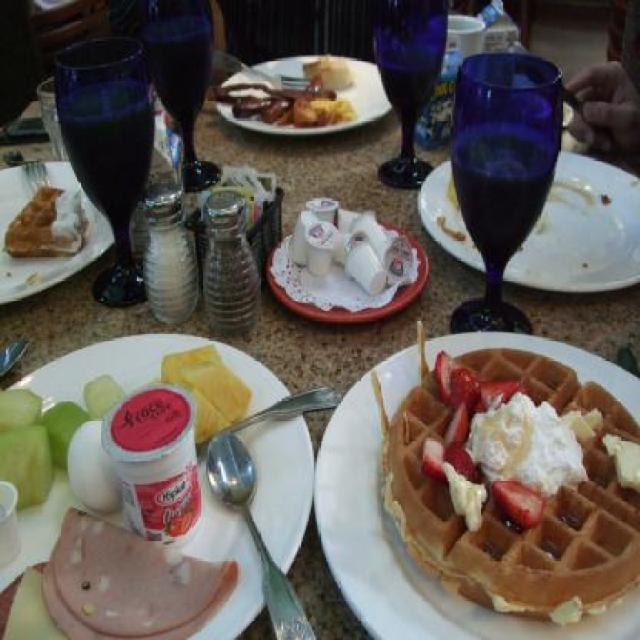Waffle: (378, 314, 640, 628), (4, 184, 87, 262)
